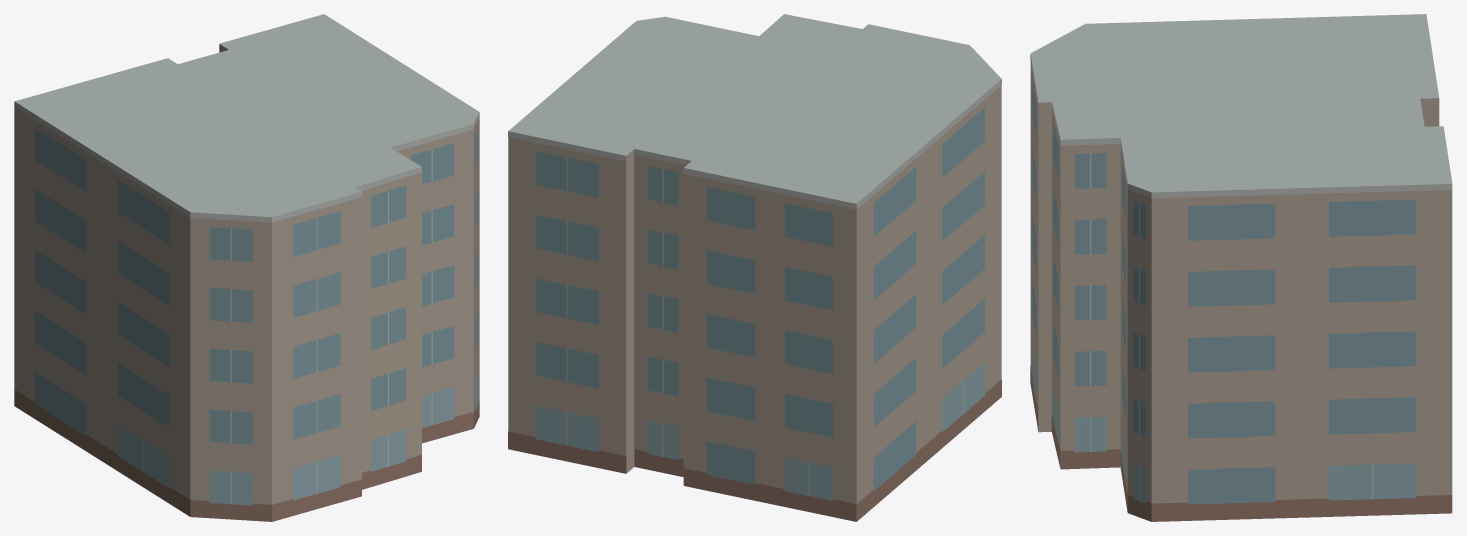
Rendered from survey-upis-33011254.glb.
3 renders of one model, left to right at view 1: azimuth 30°, elevation 25°; view 2: azimuth 150°, elevation 25°; view 3: azimuth 270°, elevation 25°, orthographic. The views are drawn at different scales.
Visible parts, largest first — view 1: survey-upis-33011254.tmp; view 2: survey-upis-33011254.tmp; view 3: survey-upis-33011254.tmp.
Boxes of the visible parts, x1,y1,x2,y2 form: survey-upis-33011254.tmp: (14, 14, 479, 521); survey-upis-33011254.tmp: (508, 14, 1001, 521); survey-upis-33011254.tmp: (1030, 14, 1452, 521).
Size of the model in its own units: 15.57 by 13.4 by 15.56.
